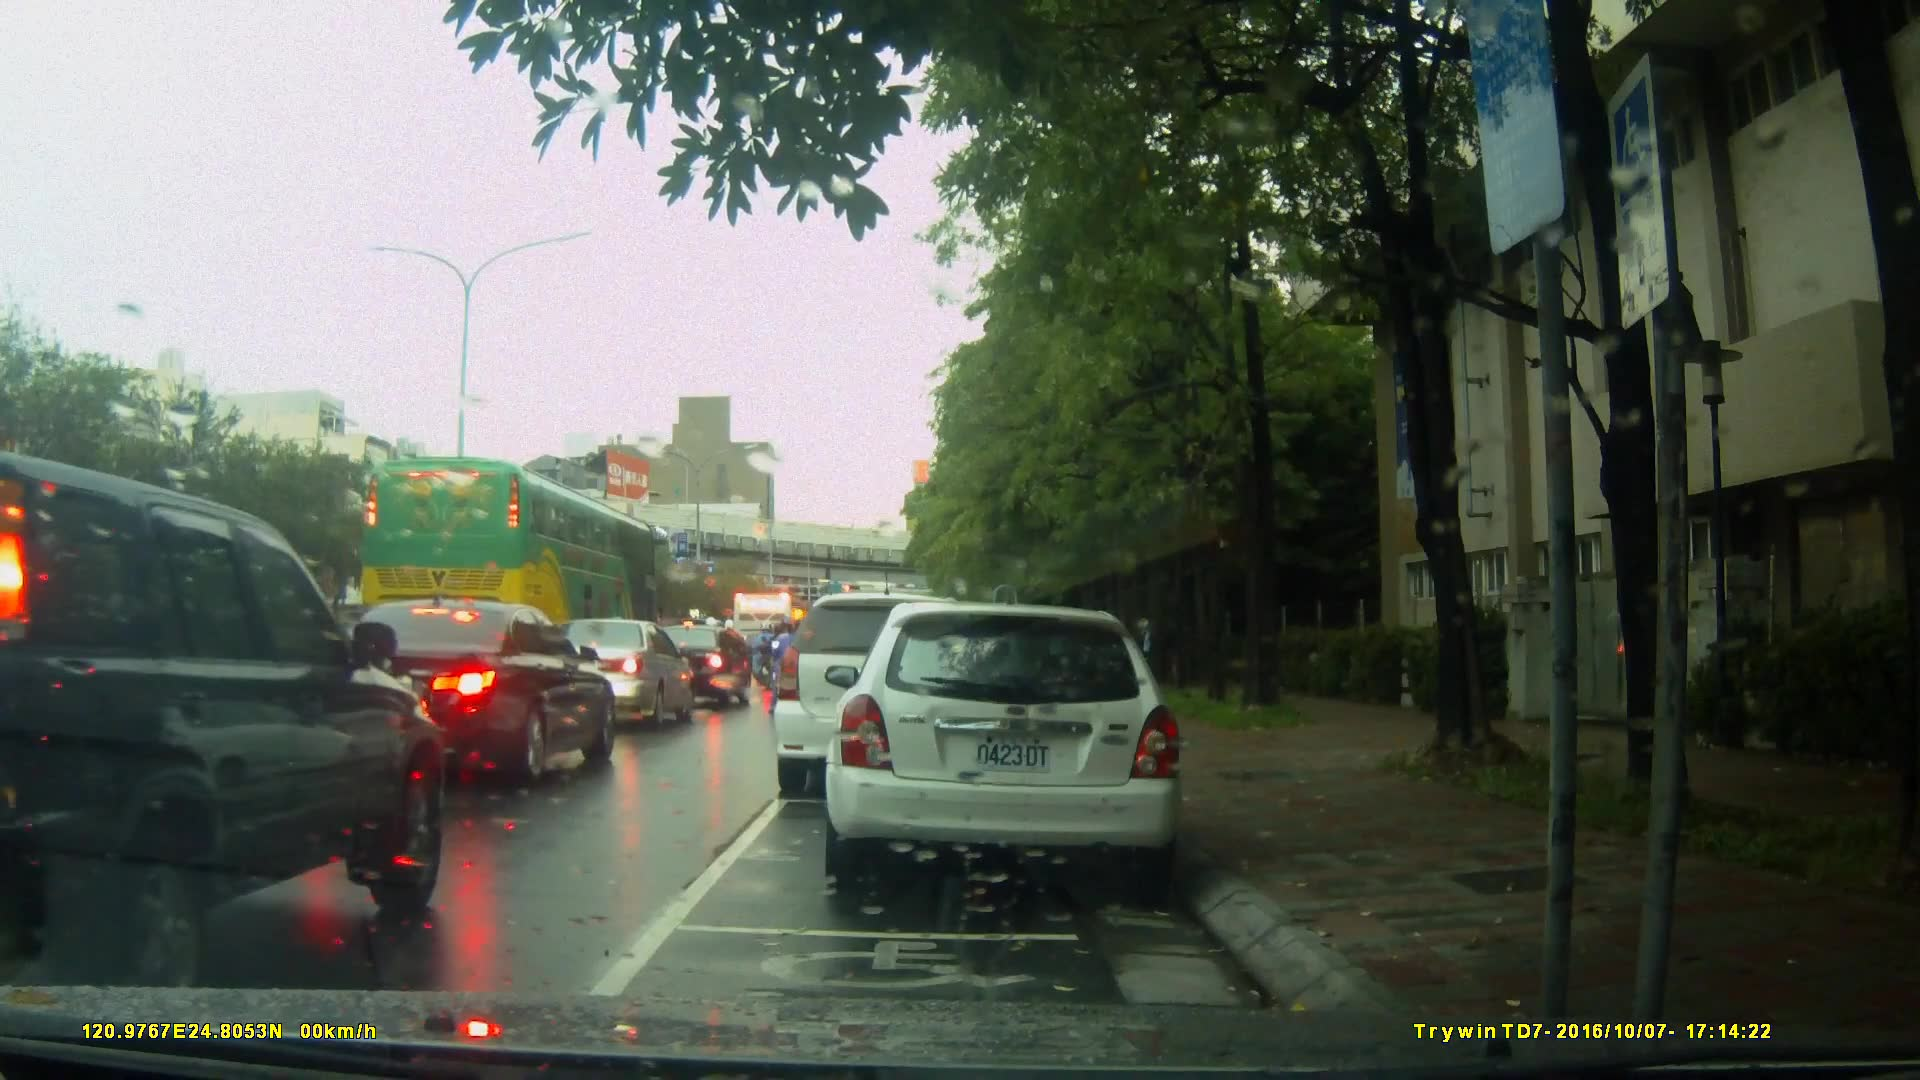rider: (764, 616, 801, 709)
vehicle: (1, 451, 453, 986), (831, 592, 1196, 897), (290, 597, 620, 795), (354, 453, 663, 659), (779, 600, 999, 802), (530, 617, 696, 729), (648, 624, 756, 713)
